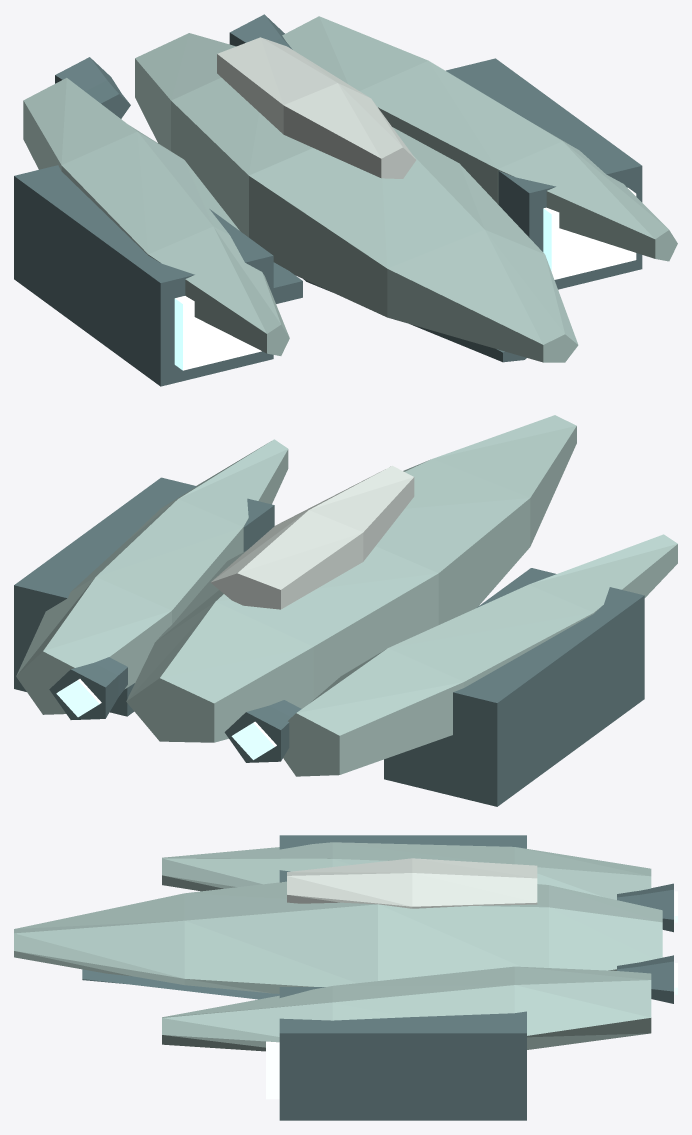
The picture shows the model from 3 angles, top to bottom: view 1: azimuth 30°, elevation 25°; view 2: azimuth 150°, elevation 25°; view 3: azimuth 270°, elevation 25°; orthographic projection. The views are drawn at different scales.
Bounding box in the file's own units: 13.65 × 4.97 × 19.34.
